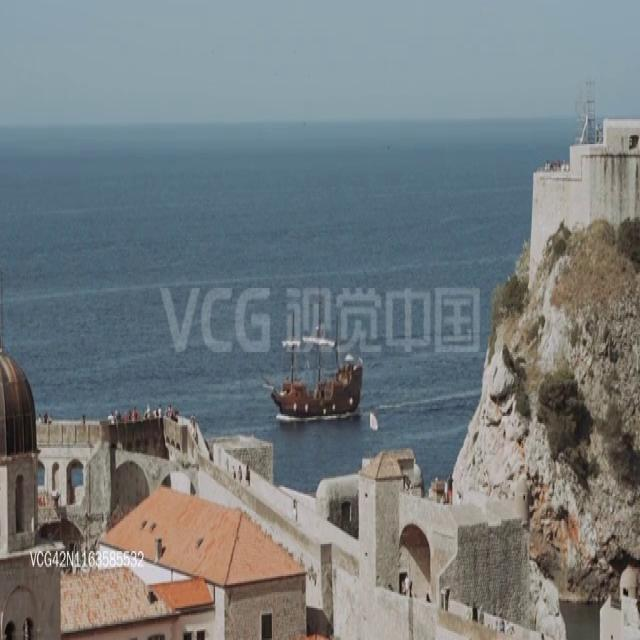sailboat: (268, 299, 364, 418)
